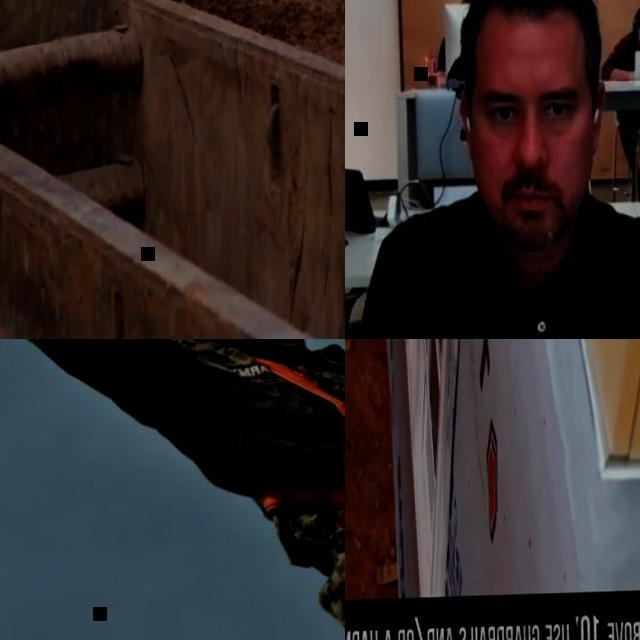NO-Hardhat: (470, 0, 598, 51), (635, 6, 640, 24)
NO-Mask: (486, 173, 577, 250)
NO-Safety Vest: (213, 339, 345, 601), (403, 222, 640, 339), (621, 34, 640, 70)
Person: (0, 339, 345, 640), (345, 0, 640, 339), (600, 4, 640, 191), (433, 0, 474, 68)
